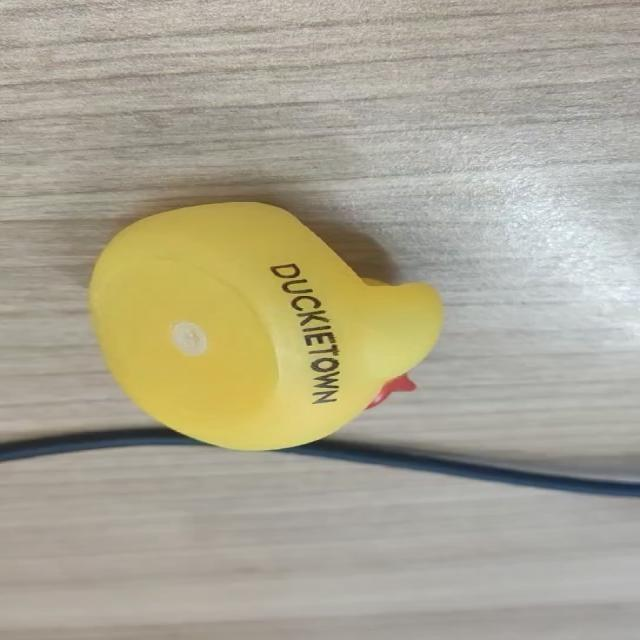rubber-duck: (88, 201, 441, 448)
